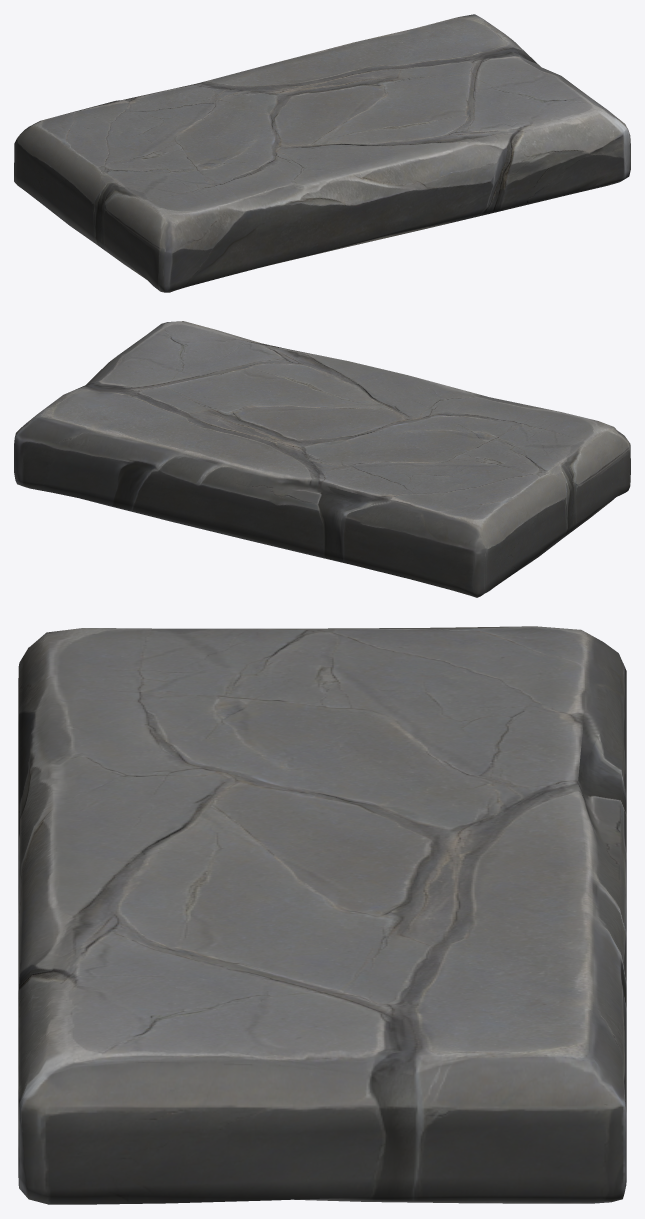
Rendered from Meshy_AI_Azure_Stone_Block_0312111433_texture.fbx.
3 renders of one model, top to bottom at view 1: azimuth 30°, elevation 25°; view 2: azimuth 150°, elevation 25°; view 3: azimuth 270°, elevation 25°, orthographic. The views are drawn at different scales.
Parts seen in each view (by area): view 1: Mesh0; view 2: Mesh0; view 3: Mesh0.
Part boxes in pixels (<box>): Mesh0: <box>14,14,630,292</box>; Mesh0: <box>14,321,630,597</box>; Mesh0: <box>18,626,626,1204</box>.
Bounding box in the file's own units: 73.13 × 10 × 40.85.
1 material, 1 textured.
